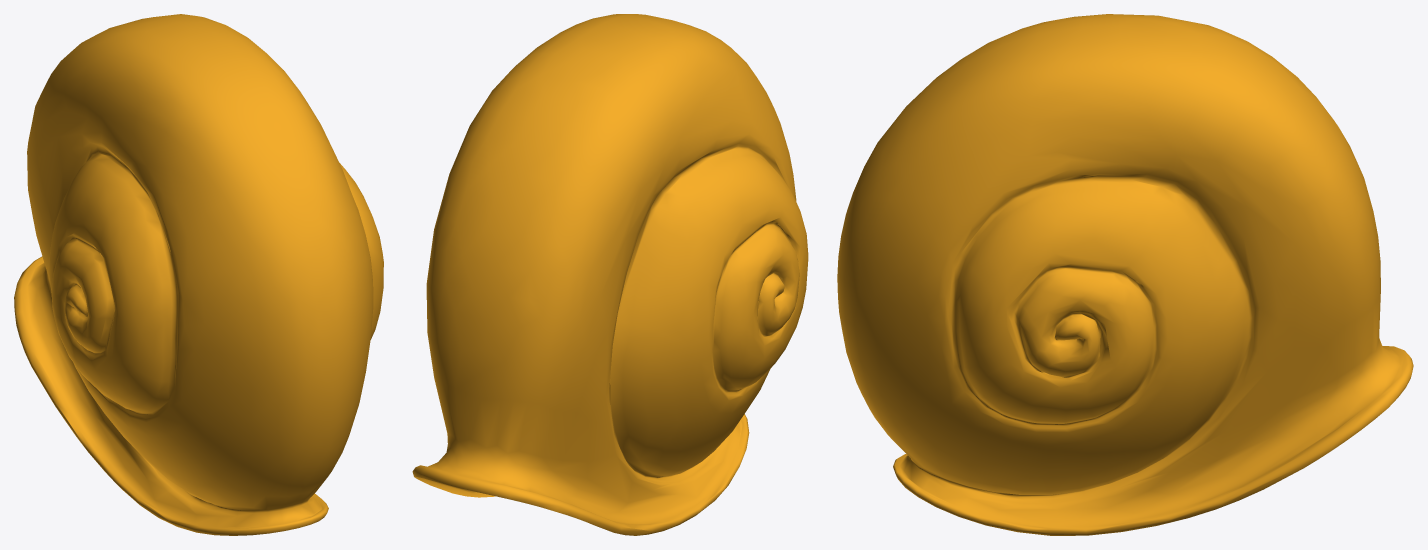
The model's file is Keong.fbx.
The picture shows the model from 3 angles, left to right: view 1: azimuth 30°, elevation 25°; view 2: azimuth 150°, elevation 25°; view 3: azimuth 270°, elevation 25°; orthographic projection. The views are drawn at different scales.
Parts seen in each view (by area): view 1: shell.001; view 2: shell.001; view 3: shell.001.
Boxes of the visible parts, x1=… form: shell.001: x1=14, y1=14, x2=383, y2=535; shell.001: x1=412, y1=14, x2=808, y2=535; shell.001: x1=837, y1=14, x2=1413, y2=535.
Bounding box in the file's own units: 67.21 × 98.44 × 109.
